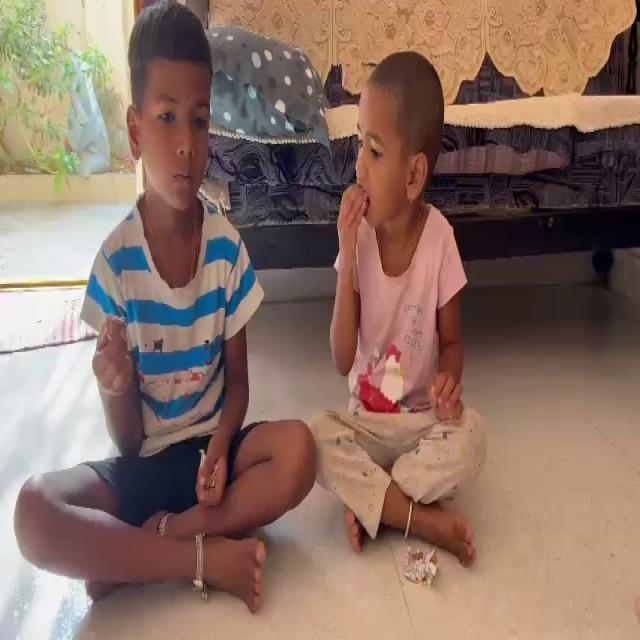child: (36, 7, 294, 629), (315, 26, 500, 605)
